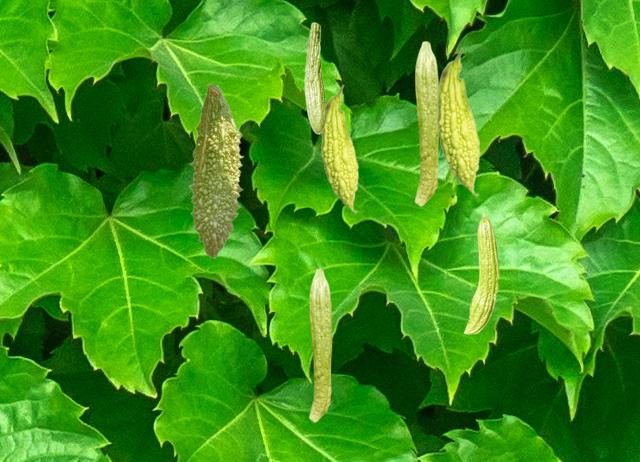ampalaya: (188, 83, 244, 259), (436, 48, 480, 198), (320, 84, 359, 214), (463, 211, 500, 335), (414, 40, 439, 206), (308, 268, 332, 422), (303, 22, 326, 134)
